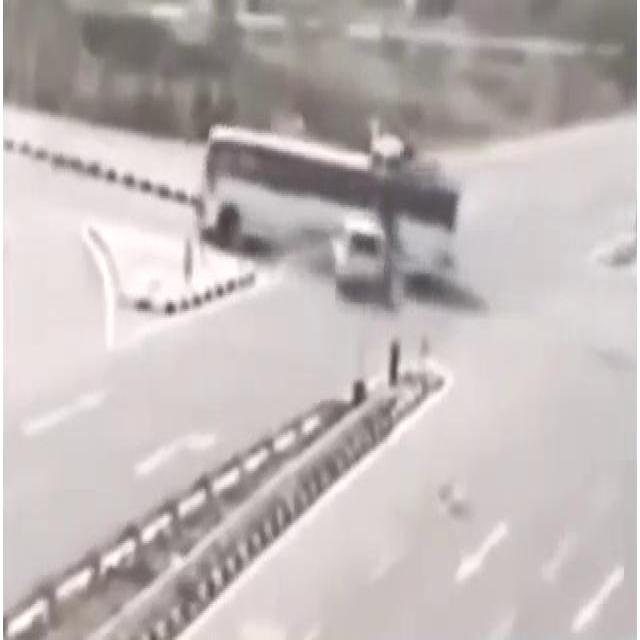accident: (194, 122, 456, 298)
